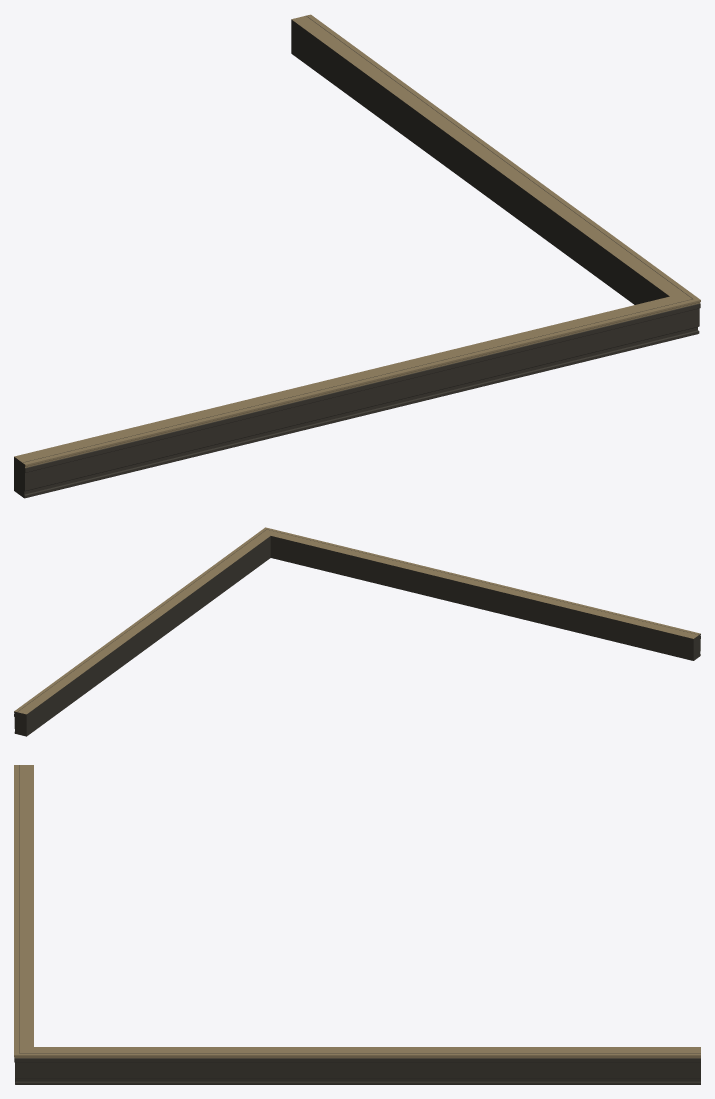
Rendered from mall-floor-edge-2m-mitre-lod2.glb.
3 renders of one model, top to bottom at view 1: azimuth 30°, elevation 25°; view 2: azimuth 150°, elevation 25°; view 3: azimuth 270°, elevation 25°, orthographic. The views are drawn at different scales.
Parts seen in each view (by area): view 1: Front mitred section LOD2, Right mitred section LOD2; view 2: Front mitred section LOD2, Right mitred section LOD2; view 3: Right mitred section LOD2, Front mitred section LOD2.
Boxes of the visible parts, box(x1,y1,x2,y2) form: Front mitred section LOD2: box(14, 296, 700, 498); Right mitred section LOD2: box(291, 14, 700, 304); Front mitred section LOD2: box(265, 527, 700, 660); Right mitred section LOD2: box(14, 527, 270, 736); Right mitred section LOD2: box(14, 1047, 700, 1084); Front mitred section LOD2: box(14, 765, 33, 1081).
Size of the model in its own units: 2.06 by 0.1 by 2.06.
